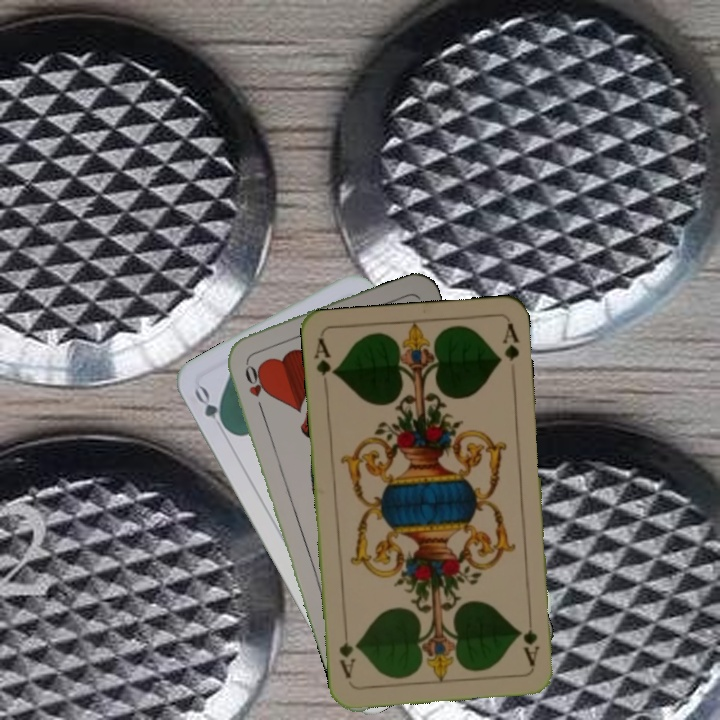GA: (310, 335, 338, 394), (519, 609, 542, 669)
GO: (190, 382, 233, 438)
HO: (241, 355, 267, 414)
